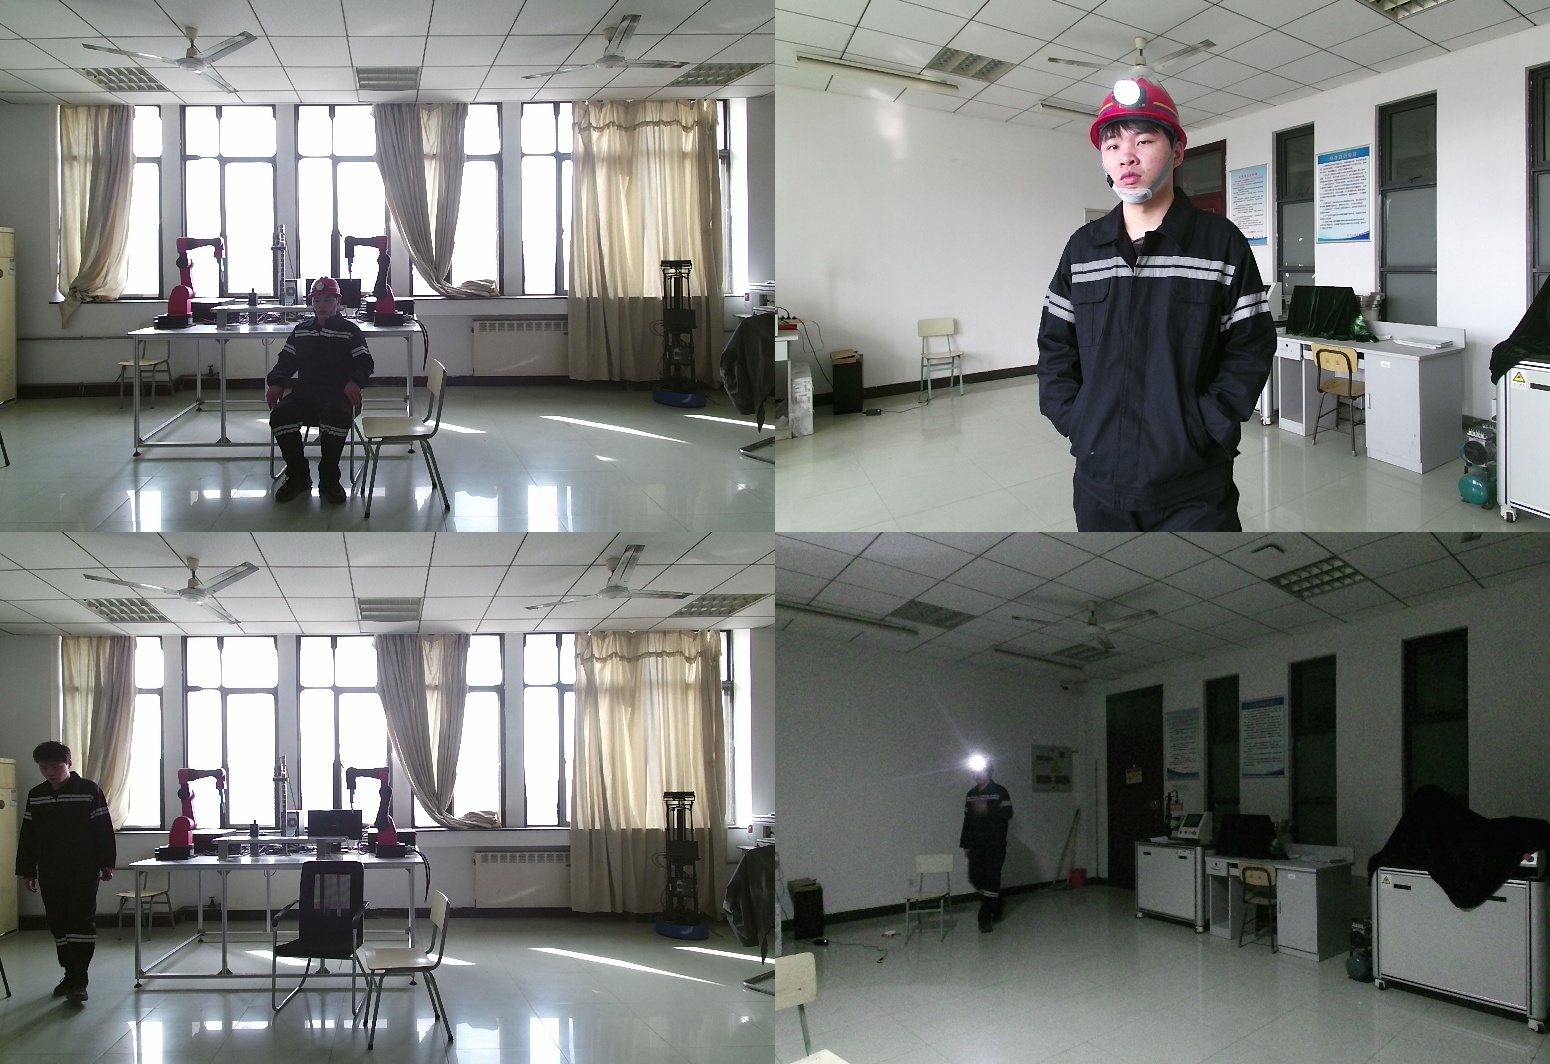person: (1039, 78, 1296, 532), (16, 741, 120, 997), (268, 278, 380, 504), (961, 756, 1019, 939)
